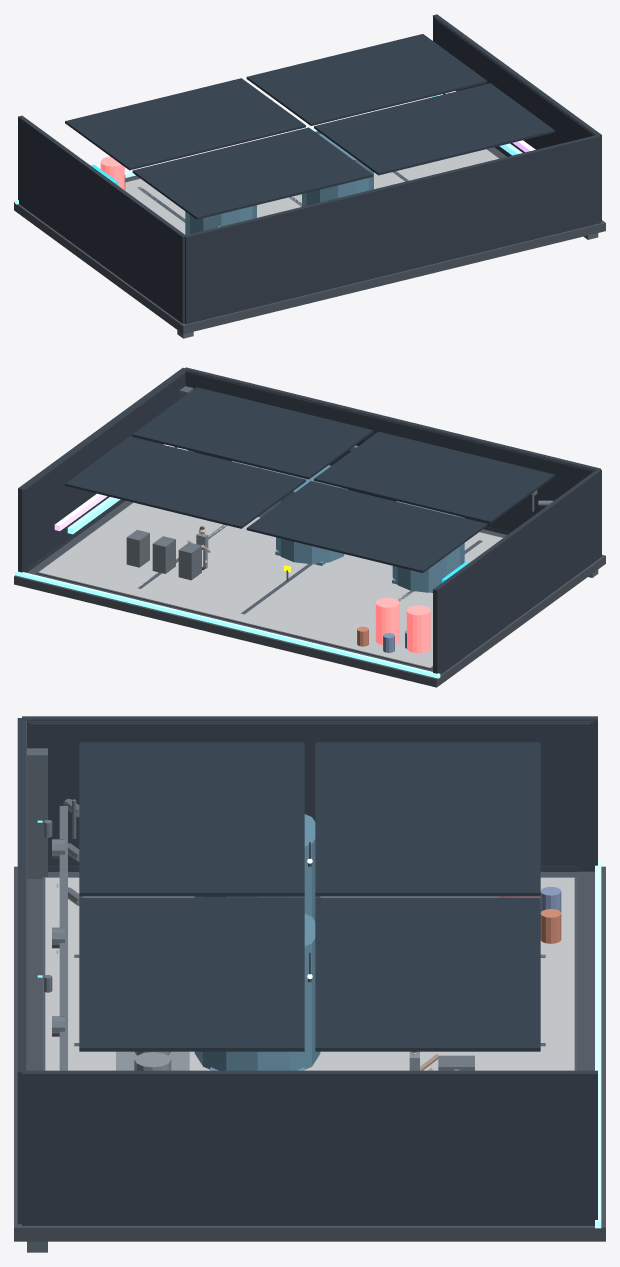
The model's file is floor-water.glb.
3 renders of one model, top to bottom at view 1: azimuth 30°, elevation 25°; view 2: azimuth 150°, elevation 25°; view 3: azimuth 270°, elevation 25°, orthographic. The views are drawn at different scales.
Parts seen in each view (by area): view 1: WallBack_water, WallL_water, Coffer_-1_-1_water, Coffer_-1_1_water, Coffer_1_1_water, Coffer_1_-1_water, Slab_water, WallR_water, TileFloor, Tank1, Tank0, DoseTank1; view 2: TileFloor, WallL_water, Coffer_-1_-1_water, Coffer_1_-1_water, Coffer_-1_1_water, Coffer_1_1_water, WallBack_water, WallR_water, Slab_water, Reveal_water, Tank0, Tank1 (+11 smaller); view 3: WallR_water, Coffer_-1_-1_water, Coffer_-1_1_water, Coffer_1_-1_water, Coffer_1_1_water, WallL_water, Slab_water, TileFloor, WallBack_water, Tank1, Post_water_-1, Reveal_water (+8 smaller).
Part boxes in pixels (x1,y1,x2,y2): WallBack_water: [184, 134, 600, 324]; WallL_water: [18, 115, 185, 323]; Coffer_-1_-1_water: [132, 127, 373, 219]; Coffer_-1_1_water: [65, 78, 305, 170]; Coffer_1_1_water: [246, 34, 487, 125]; Coffer_1_-1_water: [314, 83, 554, 175]; Slab_water: [14, 131, 605, 334]; WallR_water: [433, 14, 601, 221]; TileFloor: [125, 149, 498, 234]; Tank1: [302, 133, 373, 206]; Tank0: [185, 205, 256, 234]; DoseTank1: [100, 156, 124, 189]; TileFloor: [38, 502, 502, 667]; WallL_water: [433, 469, 601, 674]; Coffer_-1_-1_water: [314, 431, 554, 523]; Coffer_1_-1_water: [132, 387, 373, 479]; Coffer_-1_1_water: [246, 481, 487, 572]; Coffer_1_1_water: [65, 436, 305, 528]; WallBack_water: [184, 367, 600, 532]; WallR_water: [18, 368, 185, 572]; Slab_water: [14, 500, 605, 687]; Reveal_water: [15, 570, 440, 678]; Tank0: [392, 501, 464, 592]; Tank1: [276, 465, 347, 564]; WallR_water: [22, 1070, 597, 1225]; Coffer_-1_-1_water: [79, 742, 304, 896]; Coffer_-1_1_water: [315, 742, 540, 896]; Coffer_1_-1_water: [79, 897, 304, 1051]; Coffer_1_1_water: [315, 897, 540, 1051]; WallL_water: [22, 716, 597, 871]; Slab_water: [14, 866, 605, 1241]; TileFloor: [45, 877, 574, 1070]; WallBack_water: [17, 718, 25, 1224]; Tank1: [194, 914, 320, 1070]; Post_water_-1: [27, 748, 47, 878]; Reveal_water: [595, 860, 601, 1228].
Bounding box in the file's own units: 16.32 × 3.8 × 11.3.
